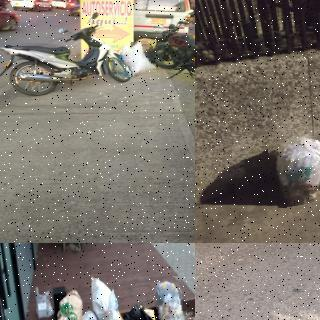Garbage: (269, 133, 320, 205), (154, 275, 189, 320), (89, 277, 120, 320), (120, 41, 157, 77), (55, 290, 83, 320), (123, 305, 159, 320), (77, 312, 100, 320)
